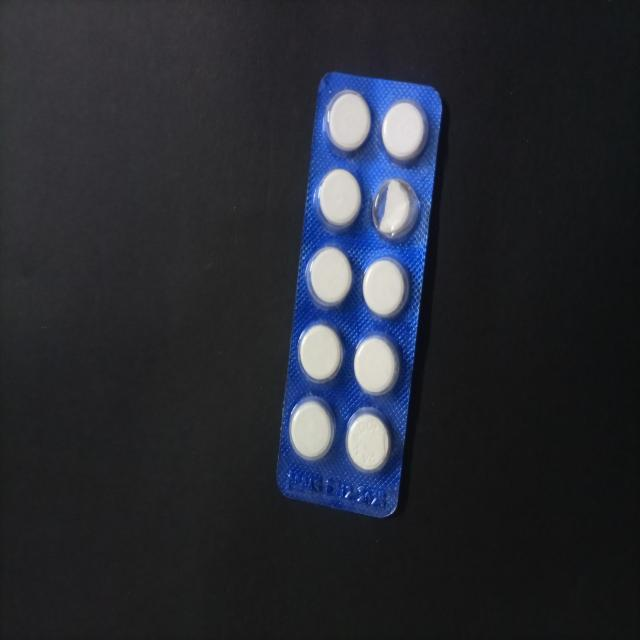defect: (370, 177, 422, 245)
